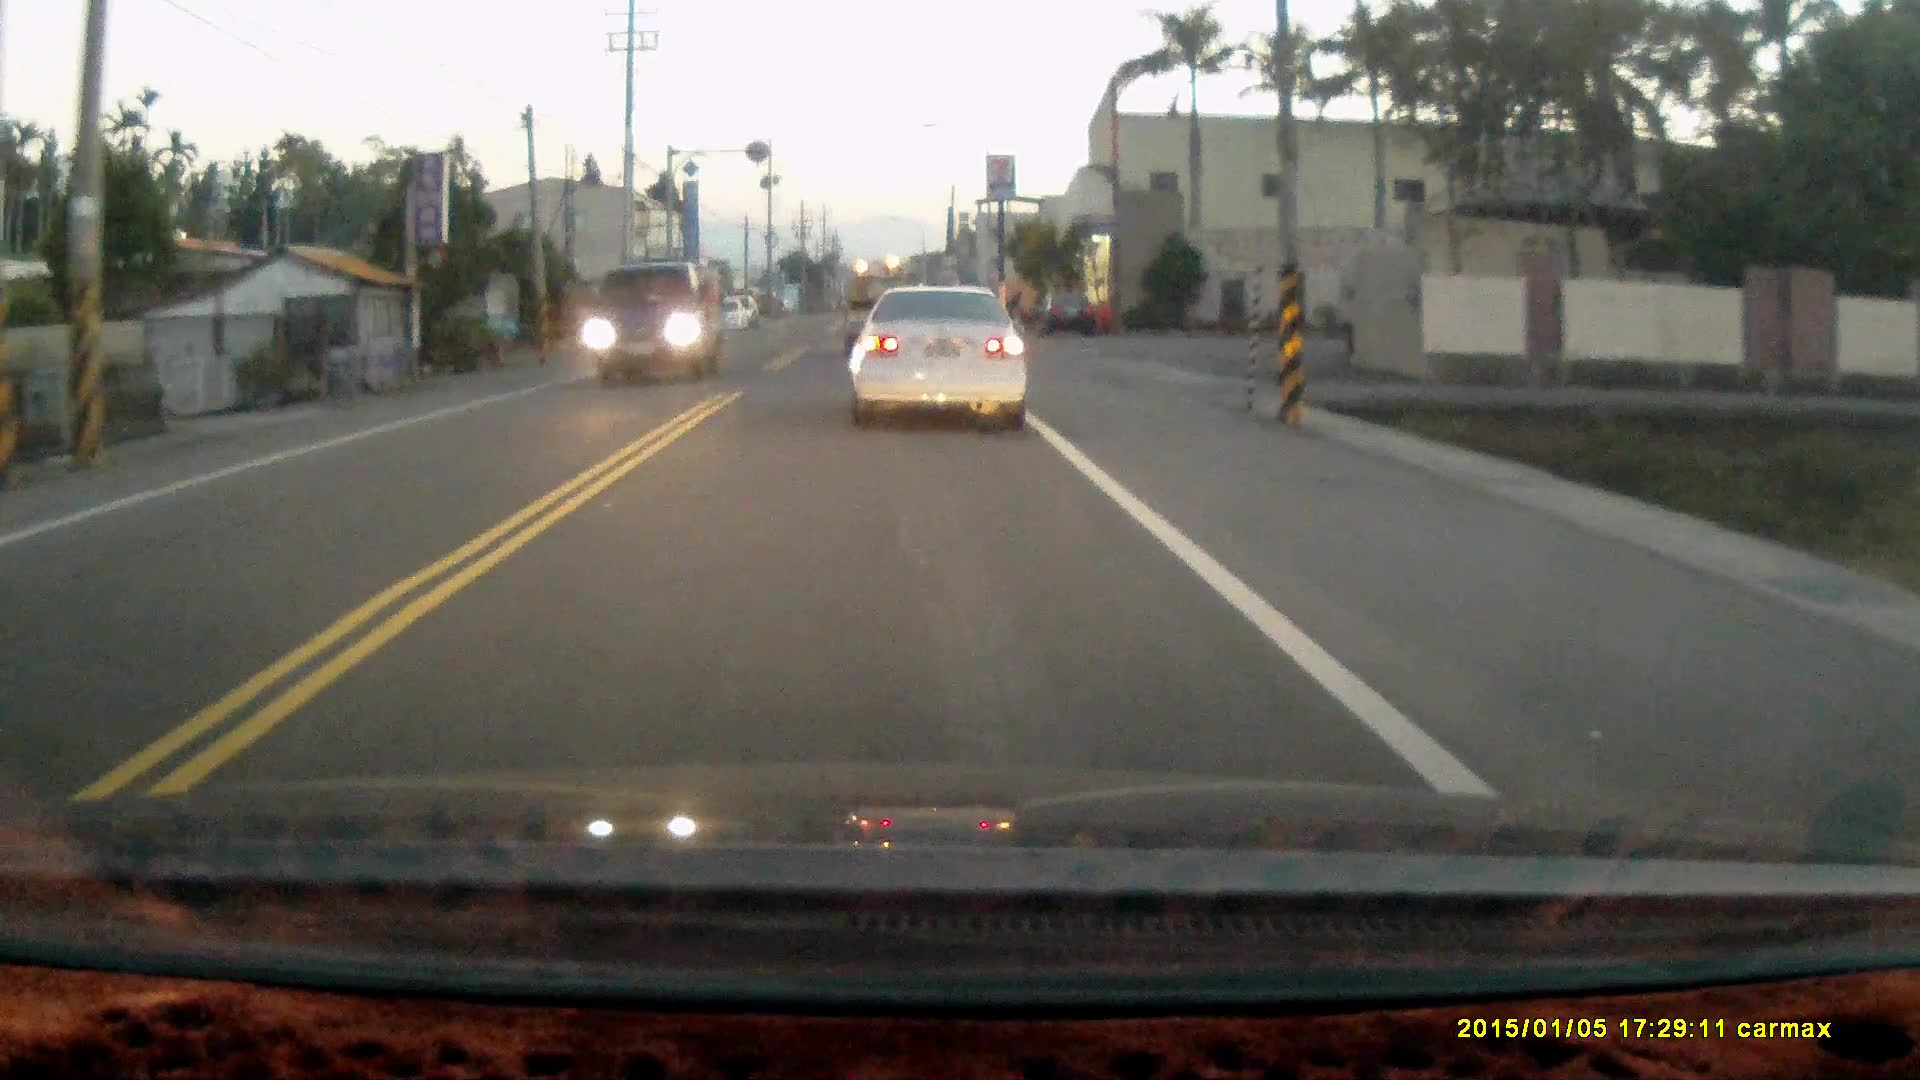vehicle: (856, 284, 1031, 438), (587, 266, 732, 389), (1039, 289, 1098, 339), (708, 295, 756, 331)
